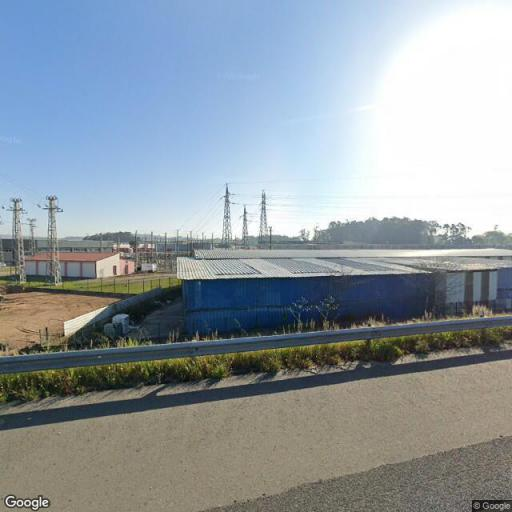ss_1: (39, 194, 66, 284), (6, 196, 28, 286)
ss_3: (258, 189, 270, 250)
ss_4: (218, 182, 234, 248), (240, 202, 251, 250)
